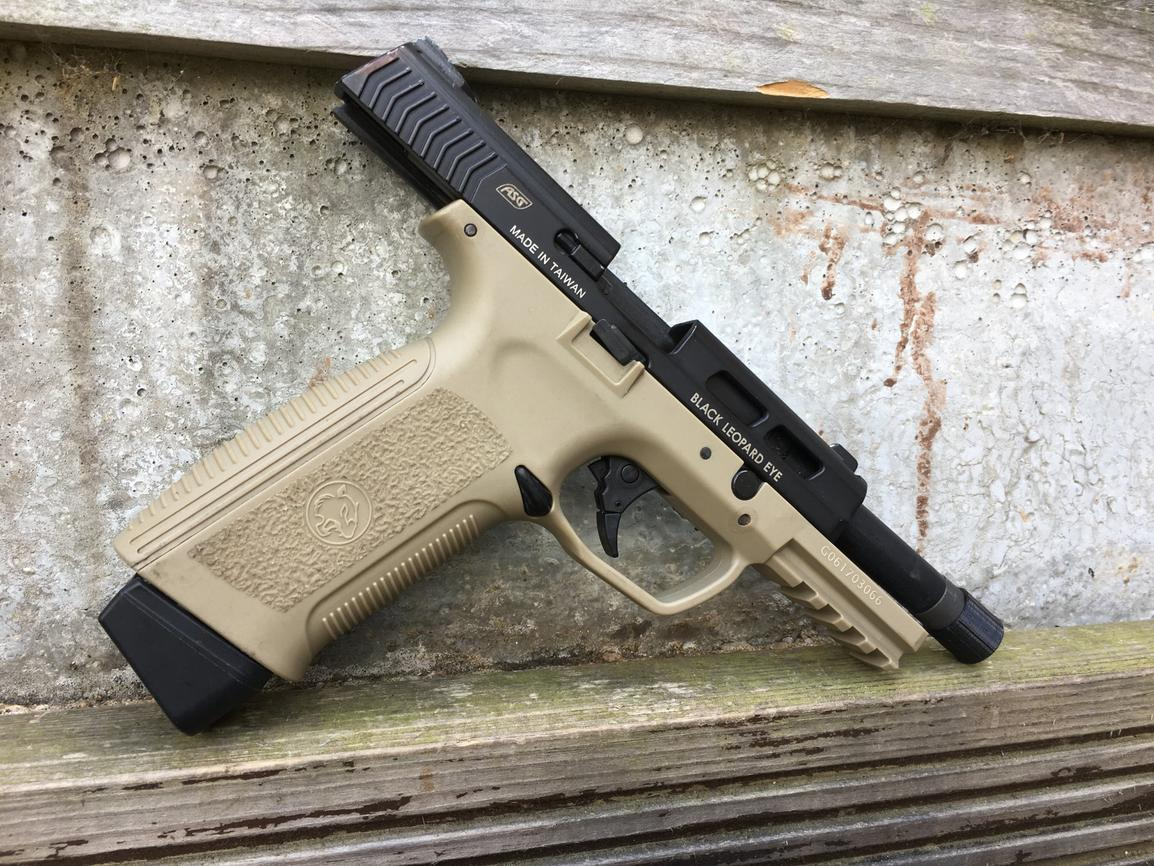asg_ics_ble_xae: (115, 38, 1009, 744)
